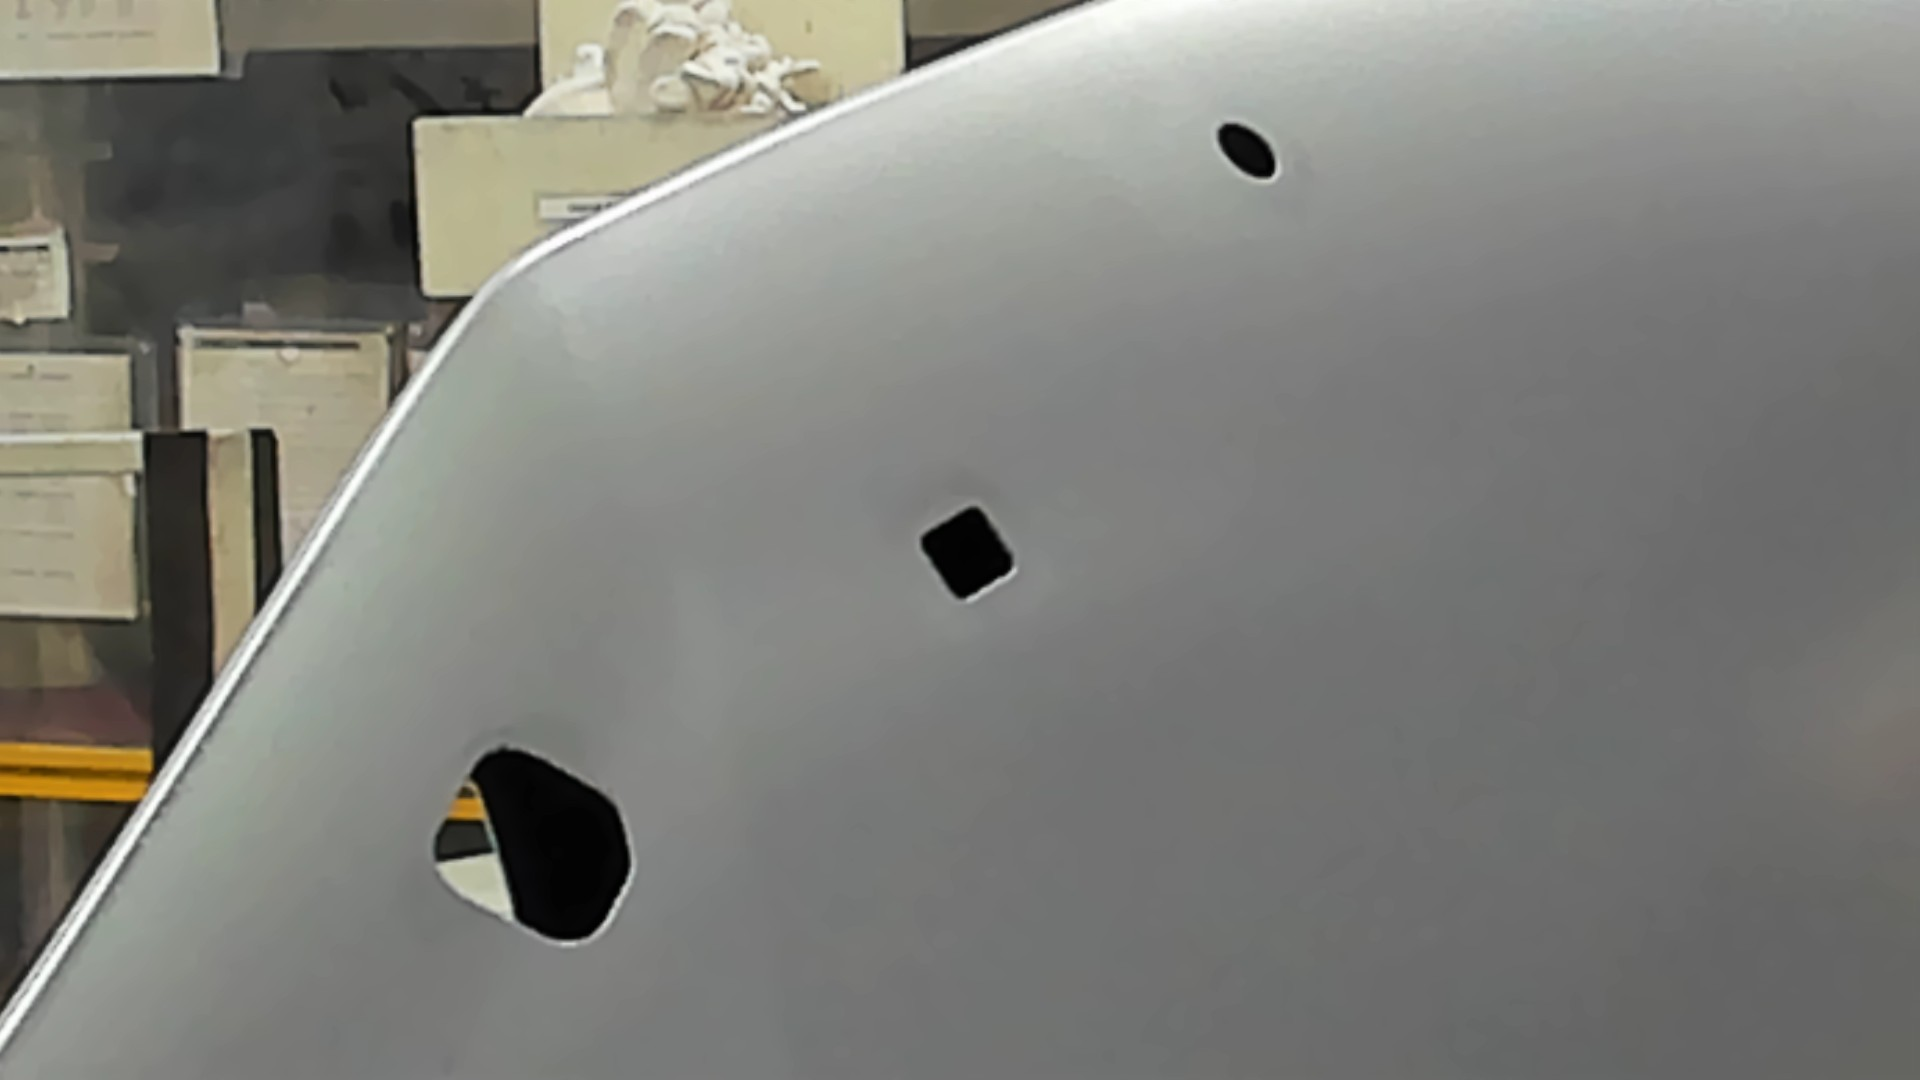chico: (1215, 117, 1286, 190)
grande: (421, 737, 641, 951)
mediano: (915, 500, 1025, 611)
